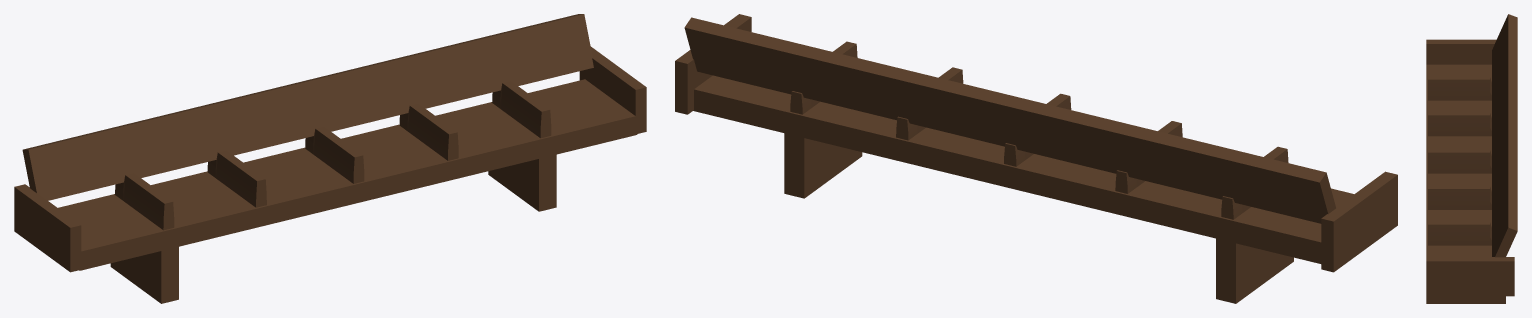
The model's file is Bench.fbx.
3 views of the same model, side by side, from view 1: azimuth 30°, elevation 25°; view 2: azimuth 150°, elevation 25°; view 3: azimuth 270°, elevation 25° (orthographic). The views are drawn at different scales.
Parts seen in each view (by area): view 1: BGD_pCube34; view 2: BGD_pCube34; view 3: BGD_pCube34.
Boxes of the visible parts, x1=… form: BGD_pCube34: x1=14, y1=14, x2=646, y2=303; BGD_pCube34: x1=675, y1=14, x2=1397, y2=303; BGD_pCube34: x1=1426, y1=14, x2=1517, y2=303.
Bounding box in the file's own units: 122 × 27.55 × 21.36.
